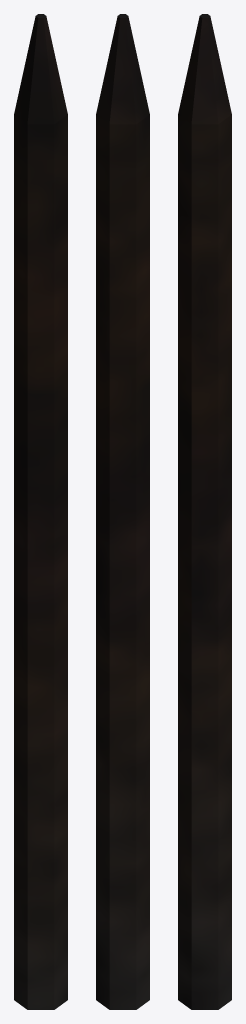
The model's file is rebar_short_pointy.obj.
The picture shows the model from 3 angles, left to right: view 1: azimuth 90°, elevation 25°; view 2: azimuth 210°, elevation 25°; view 3: azimuth 270°, elevation 25°; orthographic projection.
Visible parts, largest first — view 1: rebar_short_pointy__EXPORT_TEMP; view 2: rebar_short_pointy__EXPORT_TEMP; view 3: rebar_short_pointy__EXPORT_TEMP.
Part boxes in pixels (<box>): rebar_short_pointy__EXPORT_TEMP: <box>14,14,67,1009</box>; rebar_short_pointy__EXPORT_TEMP: <box>96,14,149,1009</box>; rebar_short_pointy__EXPORT_TEMP: <box>178,14,231,1009</box>.
Size of the model in its own units: 0.043 by 1 by 0.0497.
